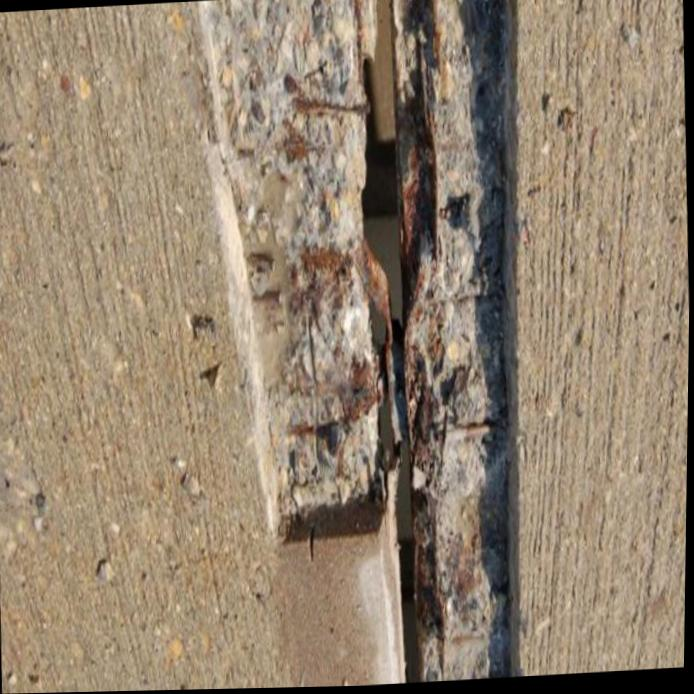damage: (195, 0, 521, 685)
